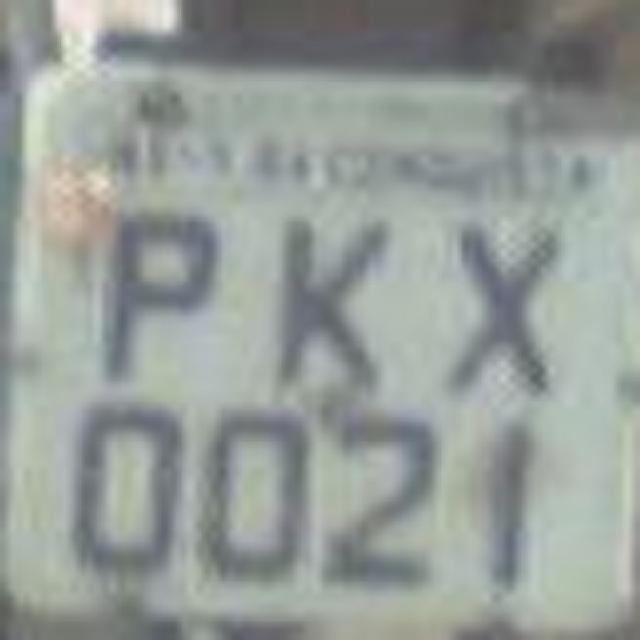0: (64, 384, 208, 596), (192, 392, 332, 596)
1: (464, 412, 548, 576)
2: (316, 400, 456, 595)
K: (252, 208, 396, 392)
P: (88, 204, 228, 396)
X: (424, 195, 571, 400)
